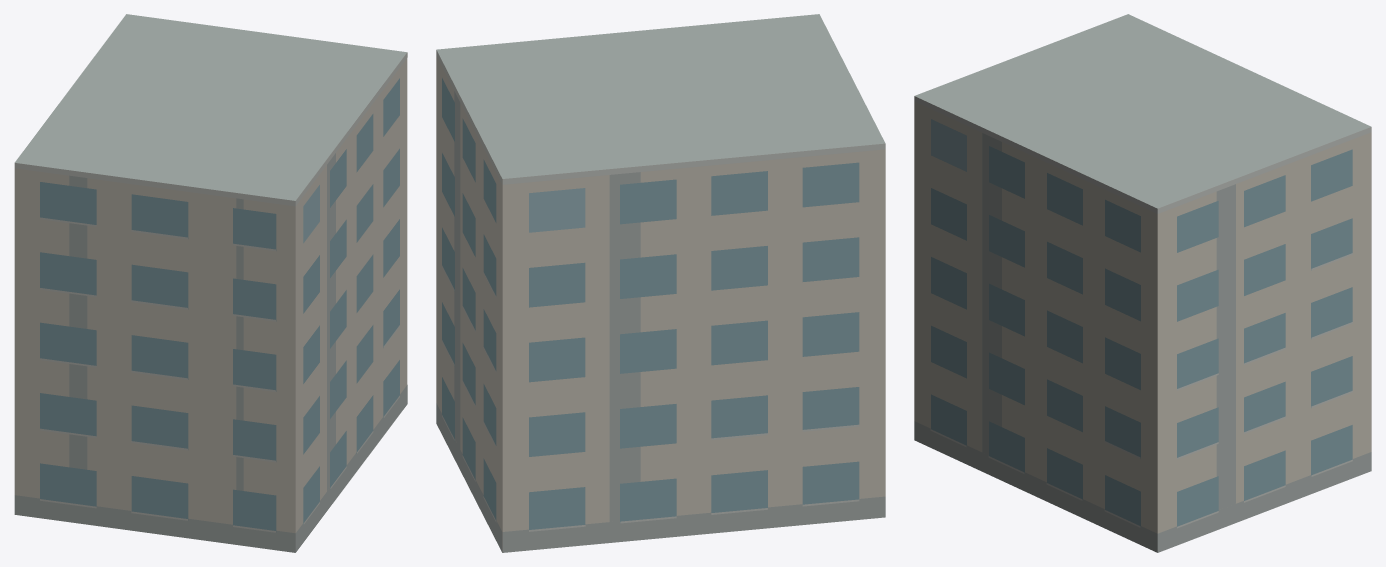
File: survey-upis-32840183.glb
The picture shows the model from 3 angles, left to right: view 1: azimuth 30°, elevation 25°; view 2: azimuth 150°, elevation 25°; view 3: azimuth 270°, elevation 25°; orthographic projection. The views are drawn at different scales.
Visible parts, largest first — view 1: survey-upis-32840183.tmp; view 2: survey-upis-32840183.tmp; view 3: survey-upis-32840183.tmp.
Boxes of the visible parts, x1=… form: survey-upis-32840183.tmp: x1=14, y1=14, x2=407, y2=552; survey-upis-32840183.tmp: x1=436, y1=14, x2=885, y2=552; survey-upis-32840183.tmp: x1=914, y1=14, x2=1371, y2=552.
Bounding box in the file's own units: 19.05 × 15.7 × 18.91.
